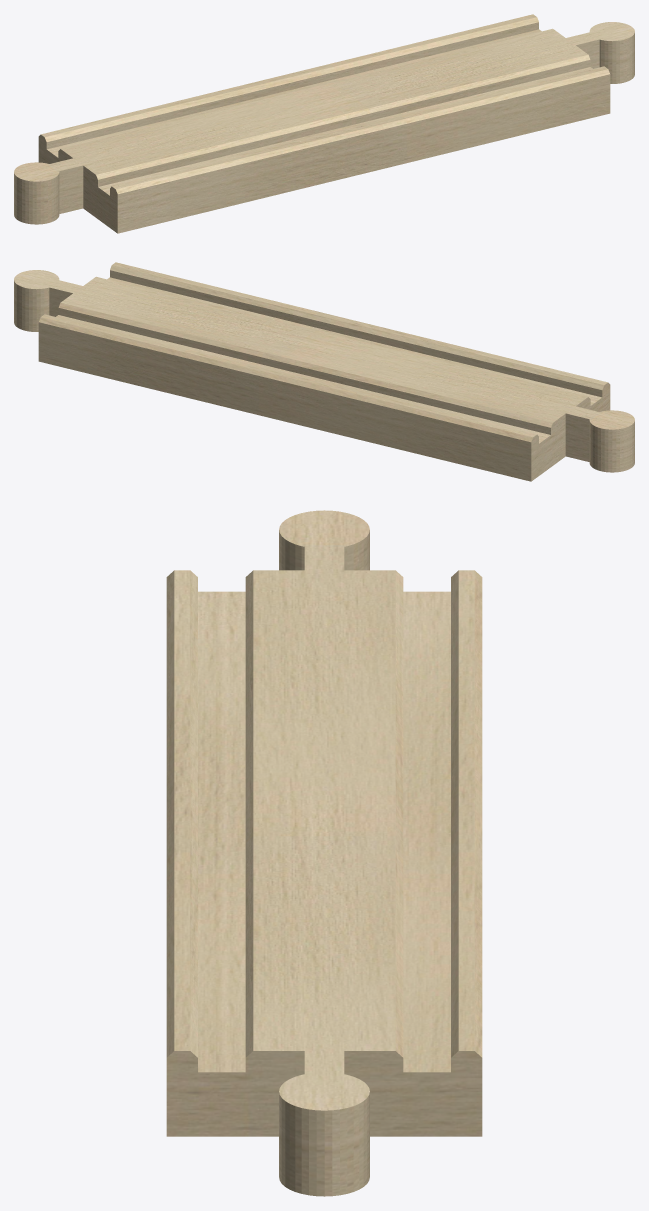
The picture shows the model from 3 angles, top to bottom: view 1: azimuth 30°, elevation 25°; view 2: azimuth 150°, elevation 25°; view 3: azimuth 270°, elevation 25°; orthographic projection. The views are drawn at different scales.
Visible parts, largest first — view 1: SketchUp; view 2: SketchUp; view 3: SketchUp.
Boxes of the visible parts, x1,y1,x2,y2 form: SketchUp: (14, 14, 634, 233); SketchUp: (14, 262, 634, 481); SketchUp: (166, 510, 482, 1196).
Bounding box in the file's own units: 7.08 × 1.57 × 0.4724.
